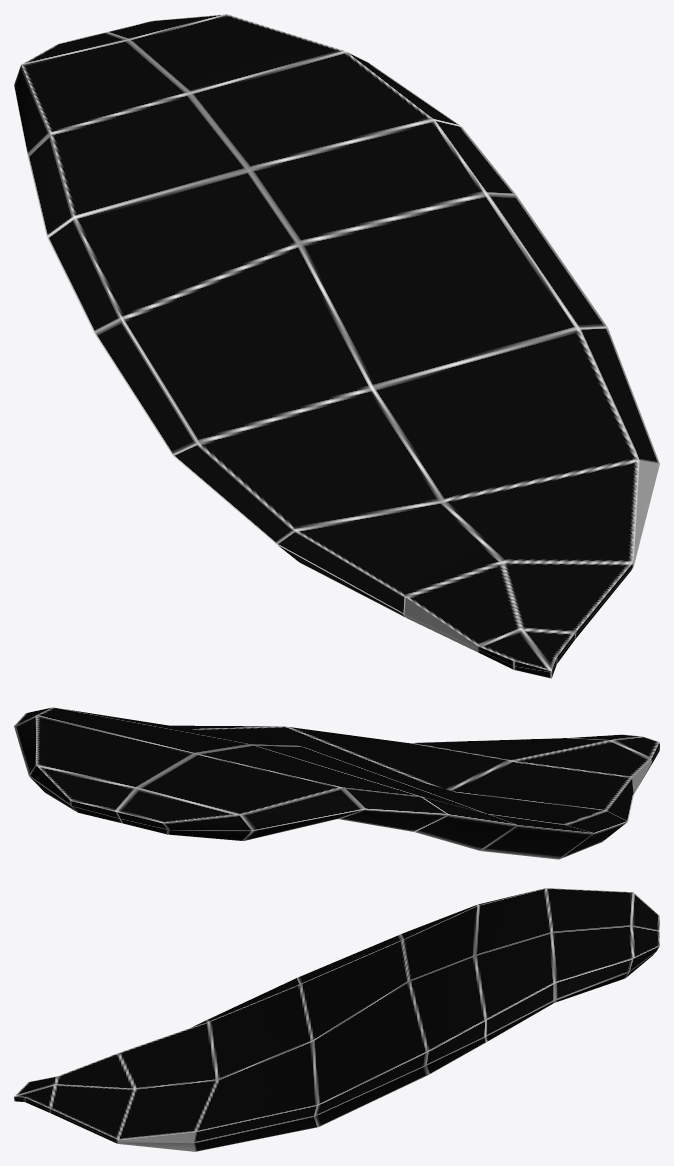
File: leaf.fbx
3 renders of one model, top to bottom at view 1: azimuth 30°, elevation 25°; view 2: azimuth 150°, elevation 25°; view 3: azimuth 270°, elevation 25°, orthographic. The views are drawn at different scales.
Parts seen in each view (by area): view 1: leaf; view 2: leaf; view 3: leaf.
Part boxes in pixels (x1,y1,x2,y2): leaf: [14, 14, 659, 678]; leaf: [14, 707, 659, 859]; leaf: [14, 888, 659, 1151].
Bounding box in the file's own units: 1.03 × 0.6323 × 1.95.
